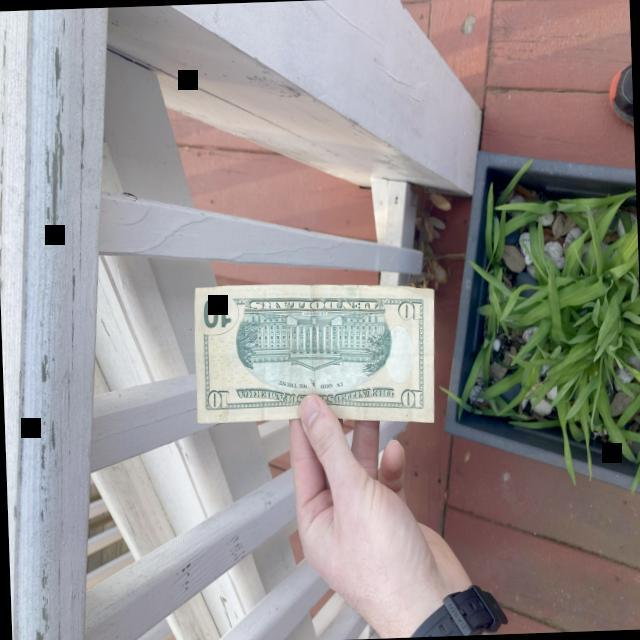ten: (190, 278, 437, 424)
